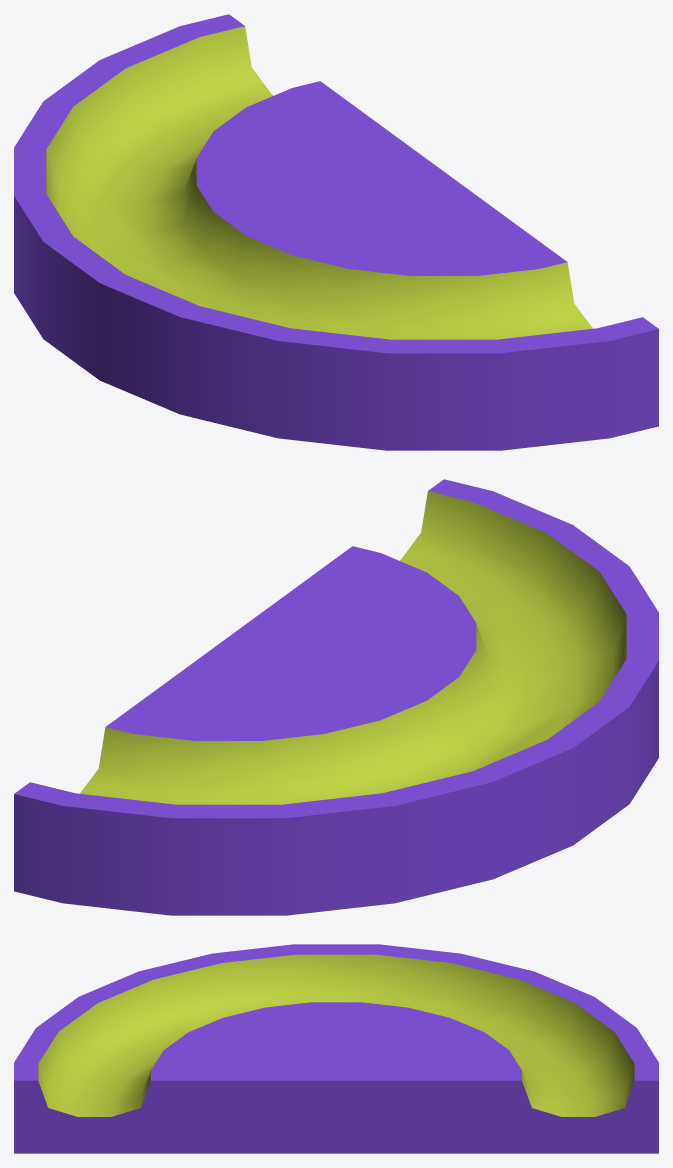
File: bend_solid_medium-col.dae
3 views of the same model, one above another, from view 1: azimuth 30°, elevation 25°; view 2: azimuth 150°, elevation 25°; view 3: azimuth 270°, elevation 25° (orthographic). The views are drawn at different scales.
Parts seen in each view (by area): view 1: bend_solid_medium-col; view 2: bend_solid_medium-col; view 3: bend_solid_medium-col.
Boxes of the visible parts, x1,y1,x2,y2 form: bend_solid_medium-col: (14, 14, 658, 450); bend_solid_medium-col: (14, 479, 658, 915); bend_solid_medium-col: (14, 944, 658, 1153).
Bounding box in the file's own units: 2 × 4 × 0.5.
